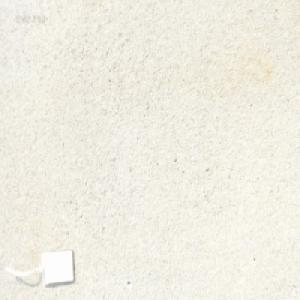LuggageTag: (14, 244, 75, 286)
